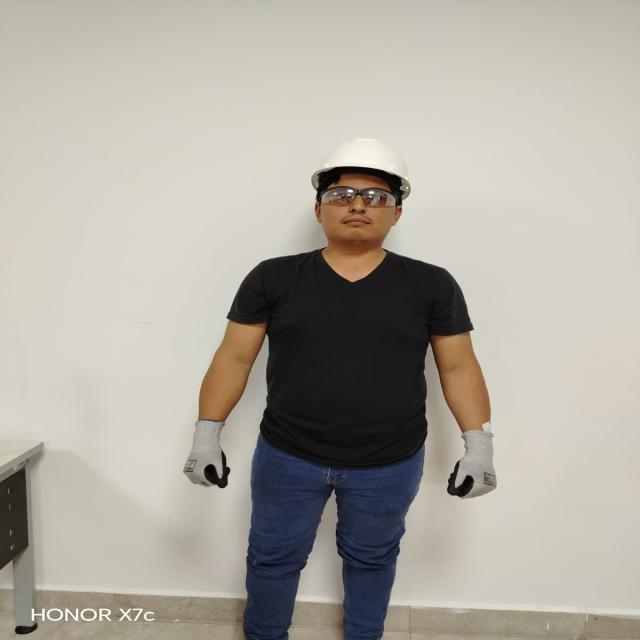gloves: (446, 430, 497, 500), (183, 420, 230, 488)
helmet: (312, 138, 412, 201)
protective_glasses: (315, 186, 399, 209)
